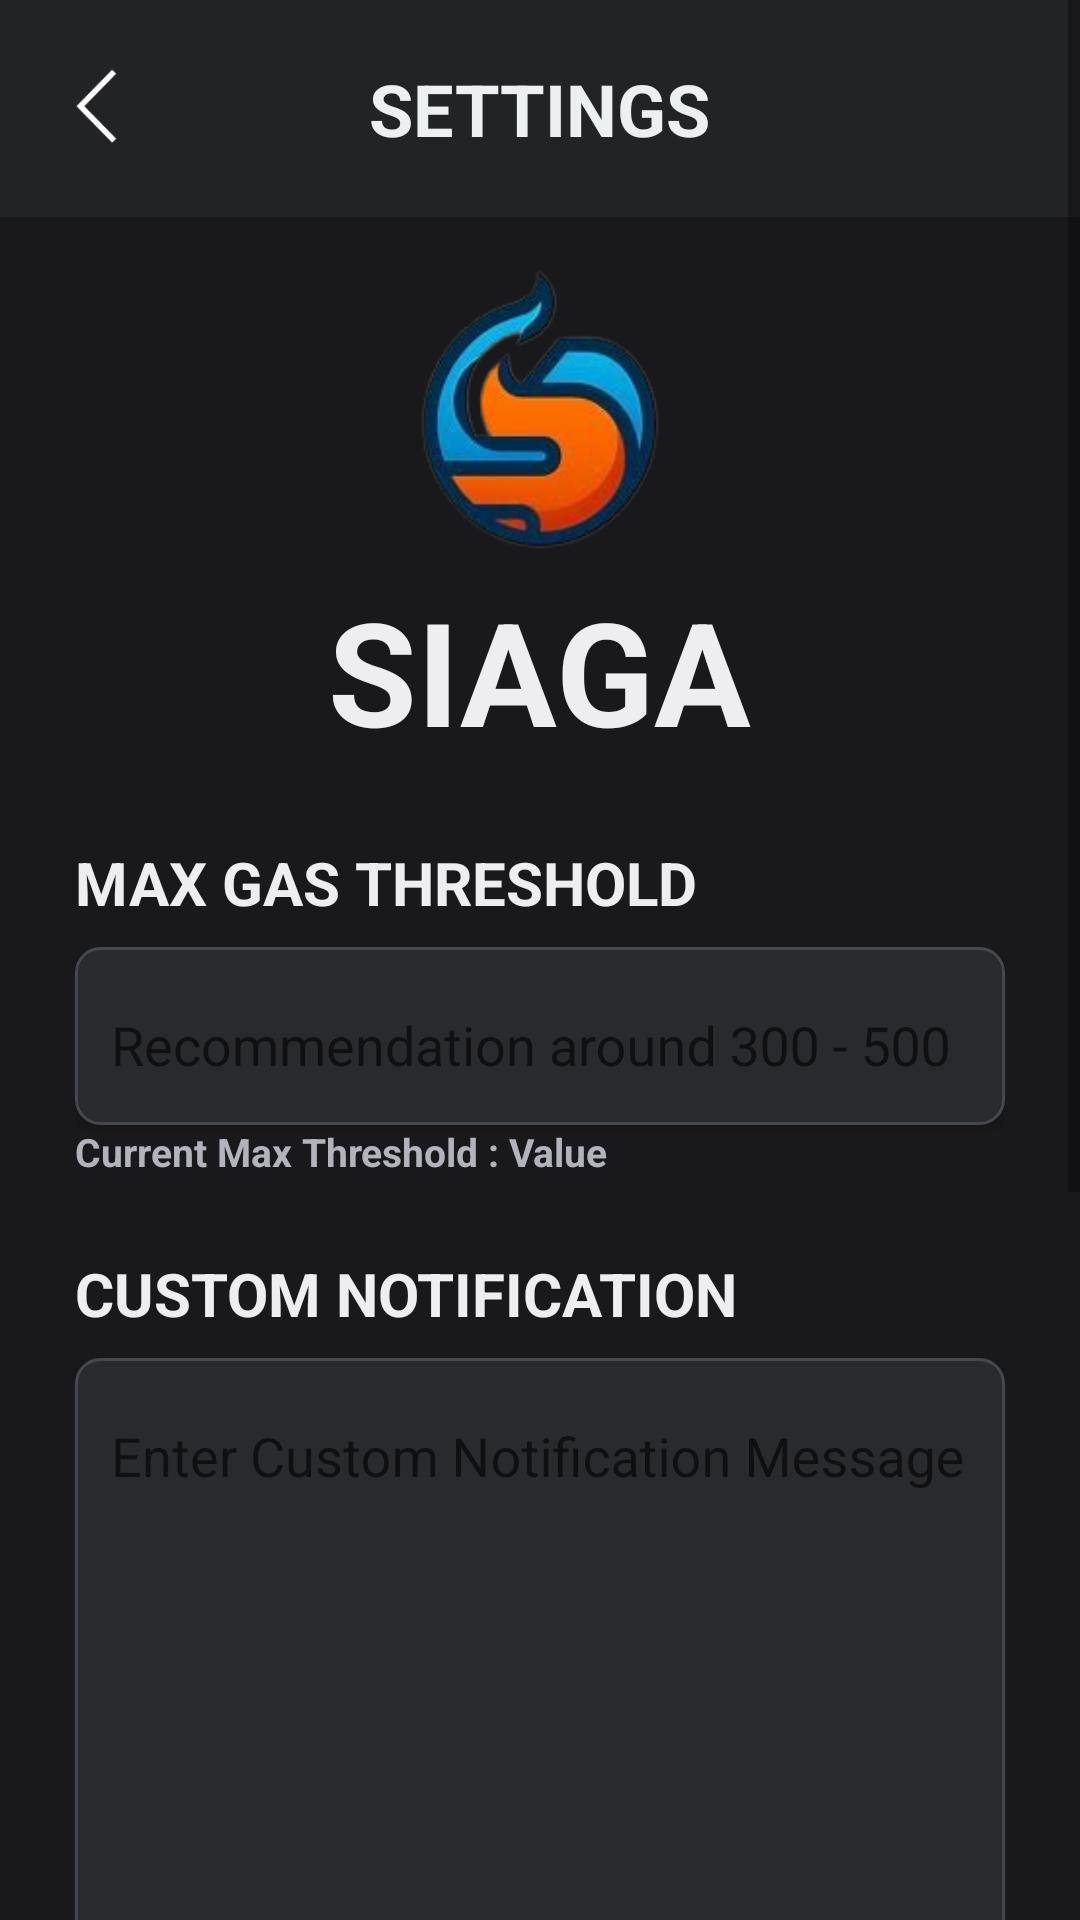

Icon click points for this 1080 x 1920 phone screenshot, format point (x, y):
Back: point (96, 106)
